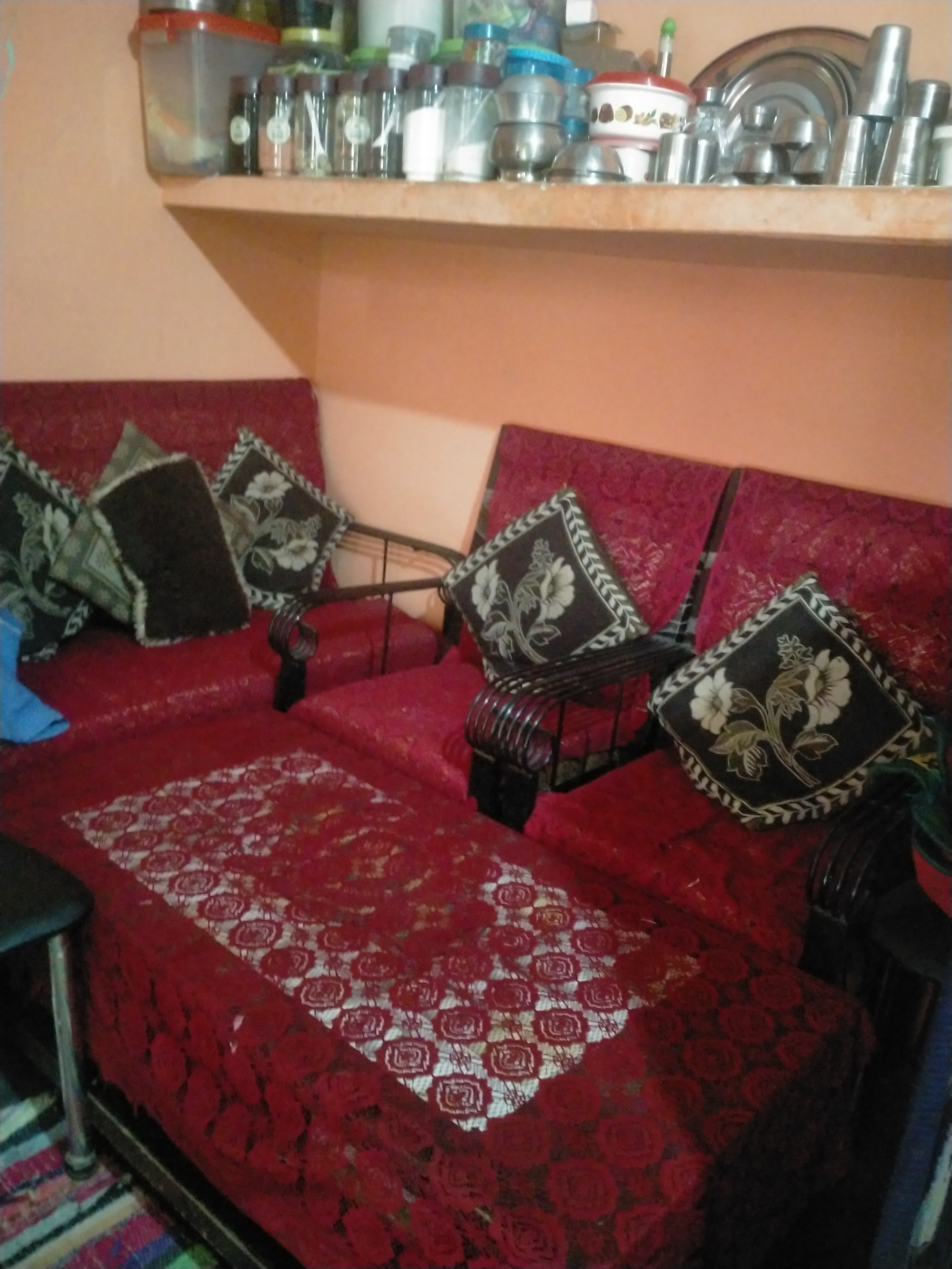sofa: (526, 469, 952, 1046), (0, 380, 470, 819), (269, 416, 731, 832)
table: (25, 698, 873, 1269)
